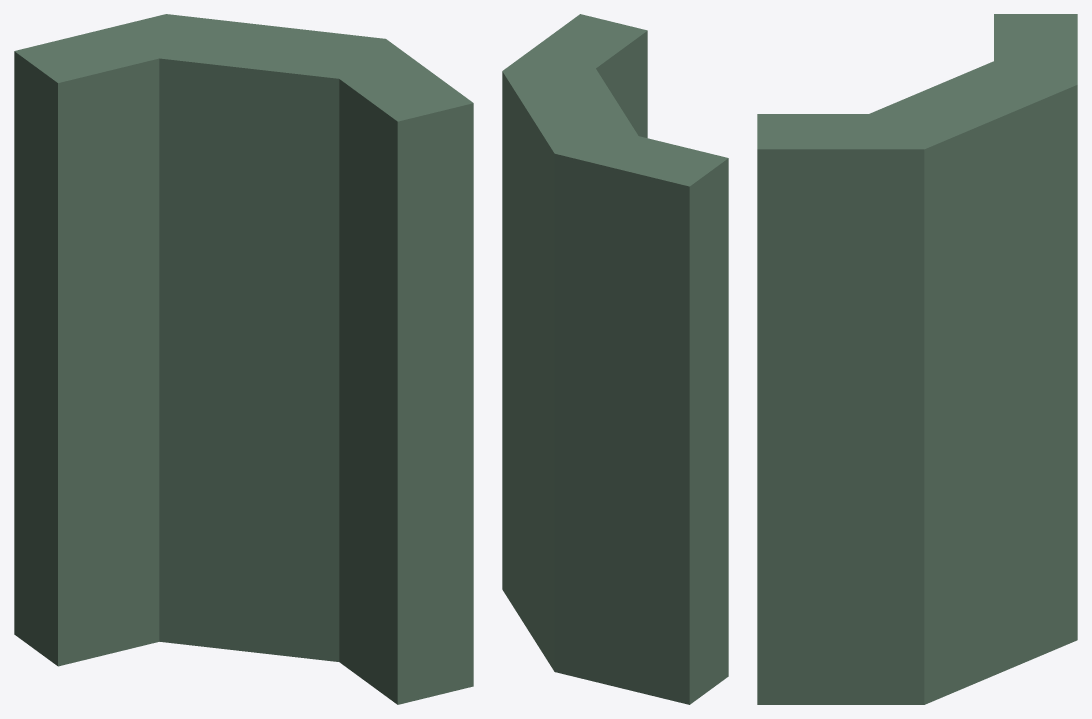
Rendered from W2_WallCorner_Angular1A.fbx.
3 renders of one model, left to right at view 1: azimuth 30°, elevation 25°; view 2: azimuth 150°, elevation 25°; view 3: azimuth 270°, elevation 25°, orthographic. The views are drawn at different scales.
Visible parts, largest first — view 1: W2_WallCorner_Angular1A.001; view 2: W2_WallCorner_Angular1A.001; view 3: W2_WallCorner_Angular1A.001.
Boxes of the visible parts, <box> form: W2_WallCorner_Angular1A.001: <box>14,14,473,704</box>; W2_WallCorner_Angular1A.001: <box>502,14,728,704</box>; W2_WallCorner_Angular1A.001: <box>757,14,1077,704</box>.
Bounding box in the file's own units: 1.15 × 2.2 × 1.15.
